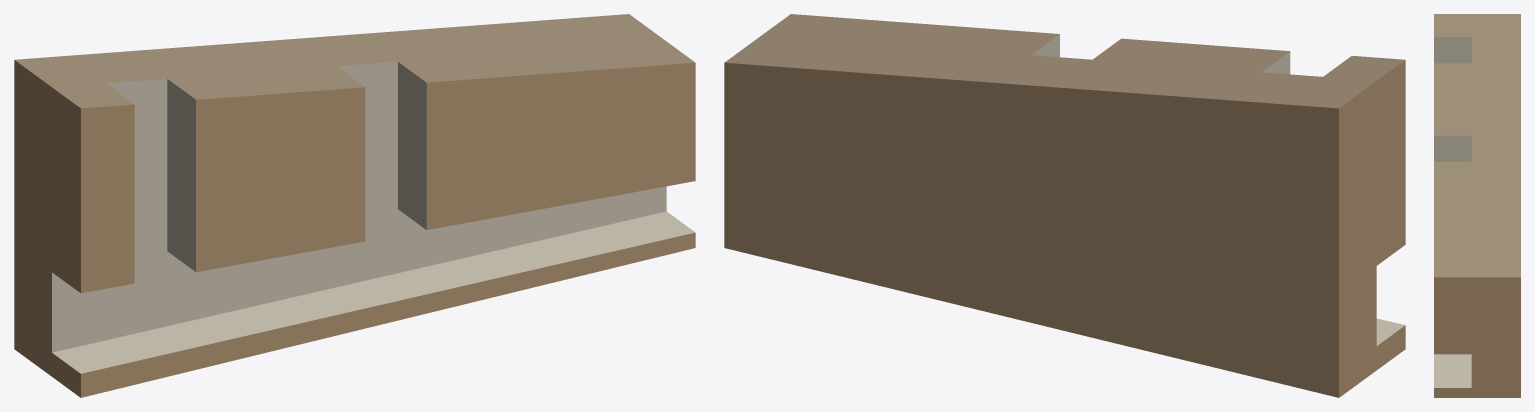
3 renders of one model, left to right at view 1: azimuth 30°, elevation 25°; view 2: azimuth 150°, elevation 25°; view 3: azimuth 270°, elevation 25°, orthographic. The views are drawn at different scales.
Parts seen in each view (by area): view 1: WholeEarthSectionWithConnectedDeepShaftsAndSlopingGallery; view 2: WholeEarthSectionWithConnectedDeepShaftsAndSlopingGallery; view 3: WholeEarthSectionWithConnectedDeepShaftsAndSlopingGallery.
Boxes of the visible parts, x1,y1,x2,y2 form: WholeEarthSectionWithConnectedDeepShaftsAndSlopingGallery: (14,14,695,397); WholeEarthSectionWithConnectedDeepShaftsAndSlopingGallery: (724,14,1405,397); WholeEarthSectionWithConnectedDeepShaftsAndSlopingGallery: (1434,14,1520,397).
Size of the model in its own units: 8 by 3.6 by 1.5.
